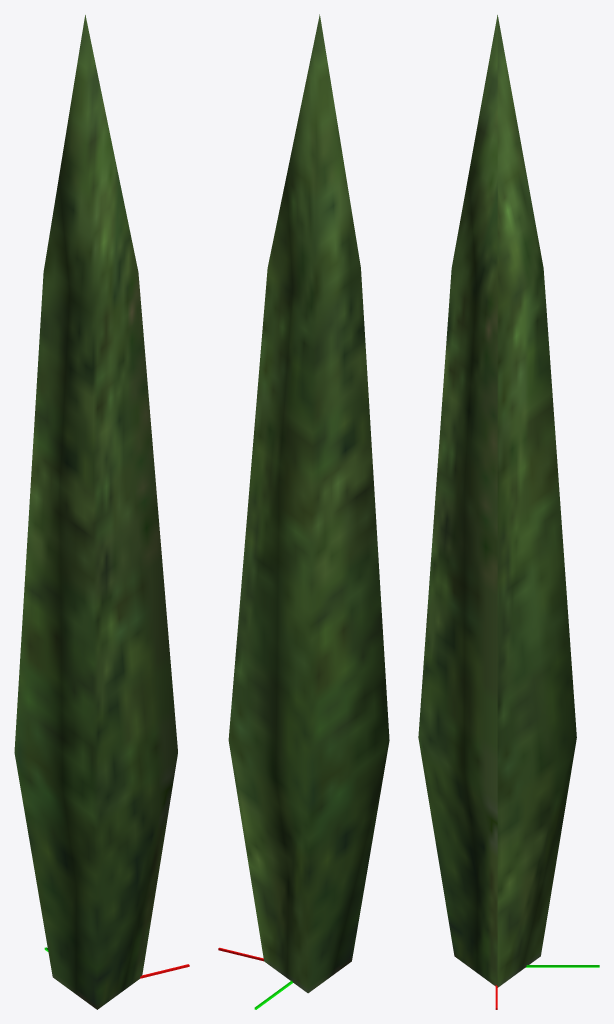
Rendered from cypress.glb.
The picture shows the model from 3 angles, left to right: view 1: azimuth 30°, elevation 25°; view 2: azimuth 150°, elevation 25°; view 3: azimuth 270°, elevation 25°; orthographic projection. The views are drawn at different scales.
Visible parts, largest first — view 1: terrain g cypressbModel; view 2: terrain g cypressbModel; view 3: terrain g cypressbModel.
Part boxes in pixels (<box>): terrain g cypressbModel: <box>14,15,177,1009</box>; terrain g cypressbModel: <box>228,14,389,993</box>; terrain g cypressbModel: <box>418,15,576,987</box>.
Size of the model in its own units: 0.3652 by 2.56 by 0.4443.
Materials: 2 (1 with a texture image).
